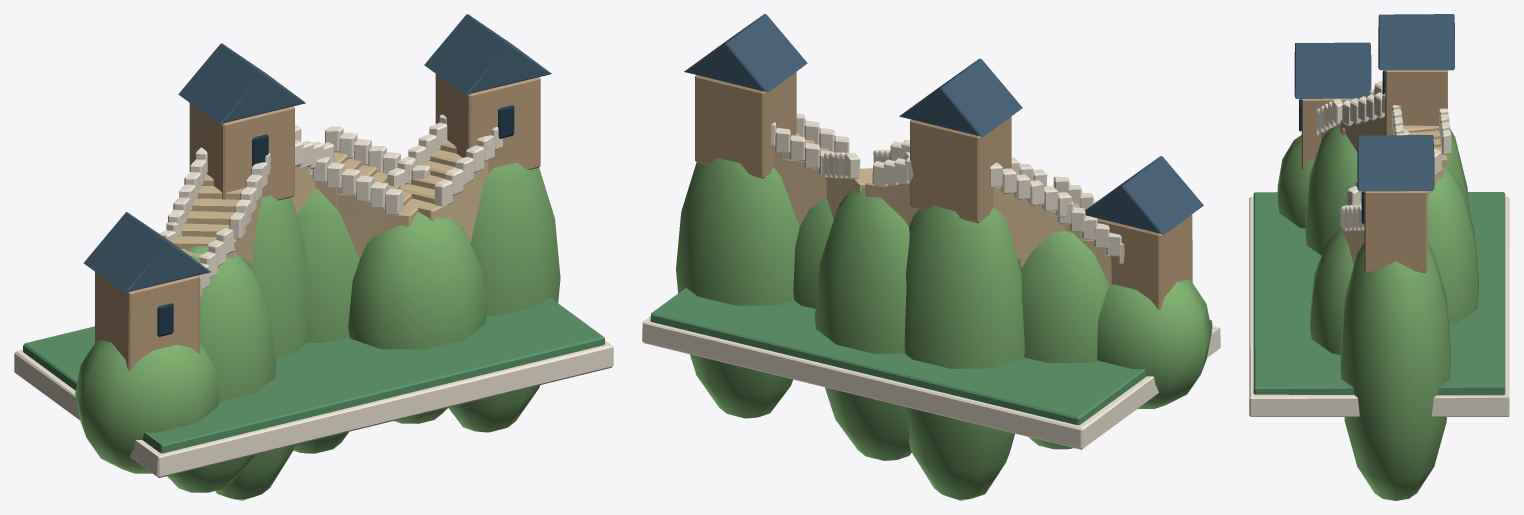
File: great-wall-of-china.glb
3 views of the same model, side by side, from view 1: azimuth 30°, elevation 25°; view 2: azimuth 150°, elevation 25°; view 3: azimuth 270°, elevation 25° (orthographic). The views are drawn at different scales.
Visible parts, largest first — view 1: Great Wall of China; view 2: Great Wall of China; view 3: Great Wall of China.
Part boxes in pixels (x1,y1,x2,y2): Great Wall of China: (14,14,613,500); Great Wall of China: (642,14,1220,500); Great Wall of China: (1249,14,1509,500).
Bounding box in the file's own units: 1.64 × 1.37 × 0.8064.
